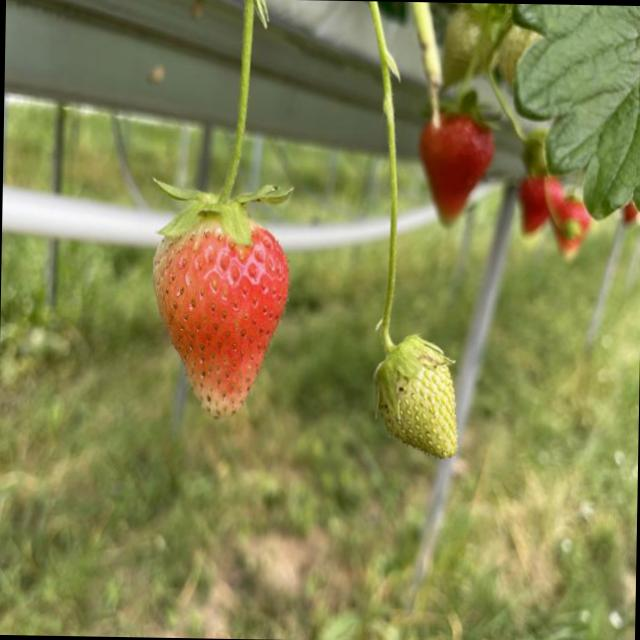stem: (154, 0, 292, 245), (369, 1, 431, 403)
strawberryNR: (153, 219, 288, 416), (380, 364, 457, 457)
strawberryR: (418, 113, 494, 224)
